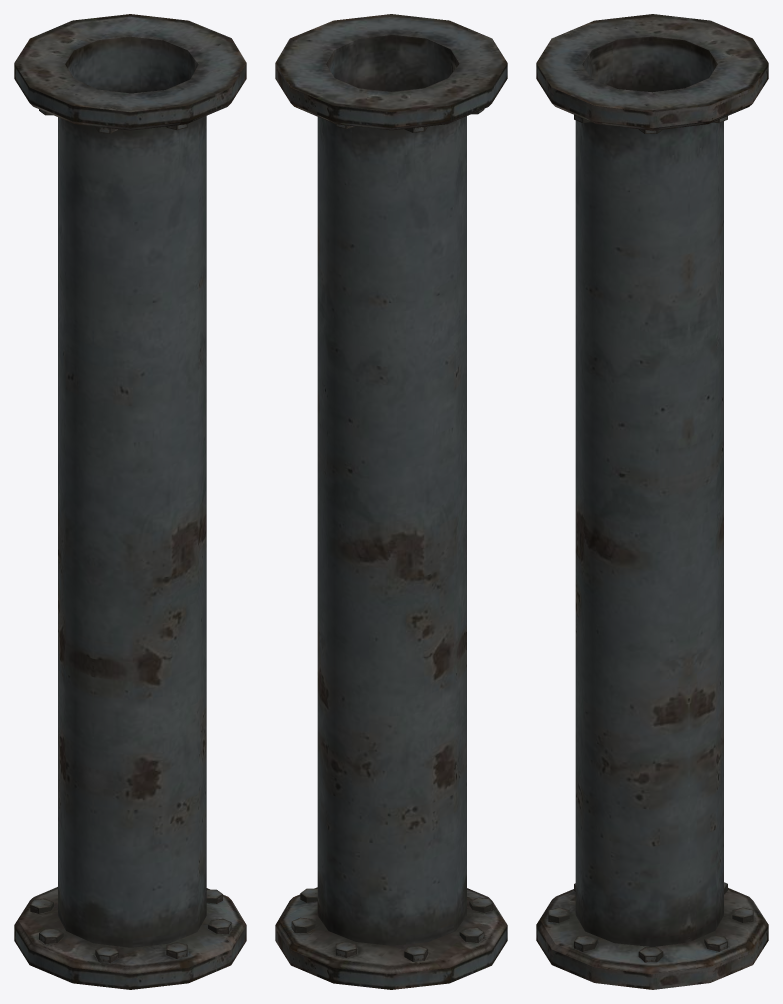
Rendered from pipe01.gltf.
3 renders of one model, left to right at view 1: azimuth 30°, elevation 25°; view 2: azimuth 150°, elevation 25°; view 3: azimuth 270°, elevation 25°, orthographic.
Parts seen in each view (by area): view 1: pipe01; view 2: pipe01; view 3: pipe01.
Part boxes in pixels (bbox=[...]): pipe01: bbox=[14, 14, 246, 989]; pipe01: bbox=[275, 14, 507, 989]; pipe01: bbox=[536, 14, 768, 989].
Size of the model in its own units: 0.2071 by 0.8591 by 0.2063.
1 material, 1 textured.
